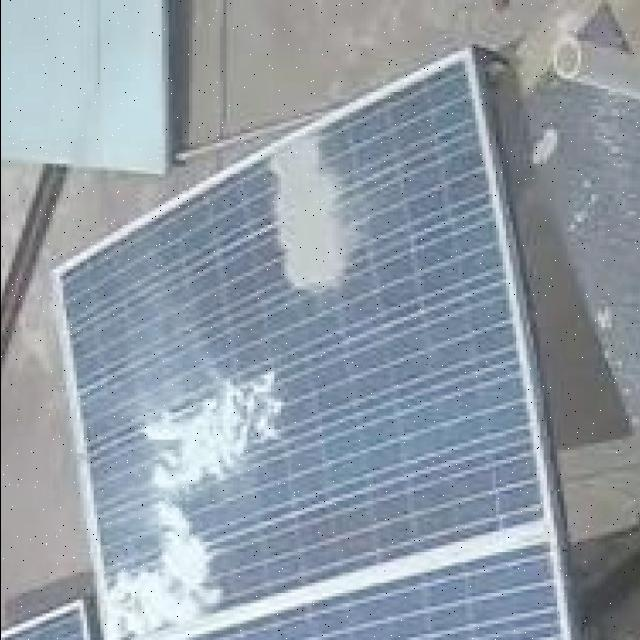Anomaly Solar Panel: (0, 56, 595, 640)
Snow: (100, 355, 287, 640), (260, 126, 364, 299)
